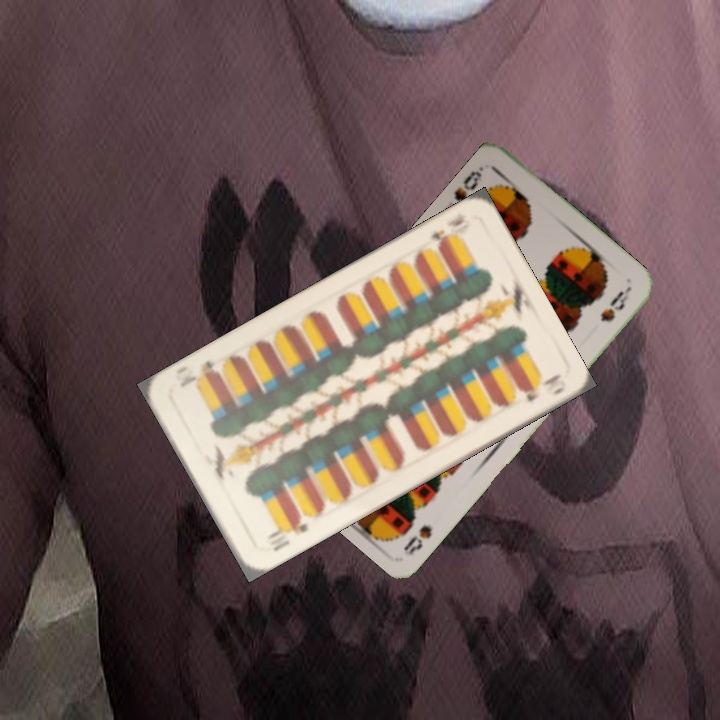E10: (426, 209, 473, 252), (263, 513, 311, 555)
S8: (450, 162, 487, 204), (399, 520, 435, 558)
